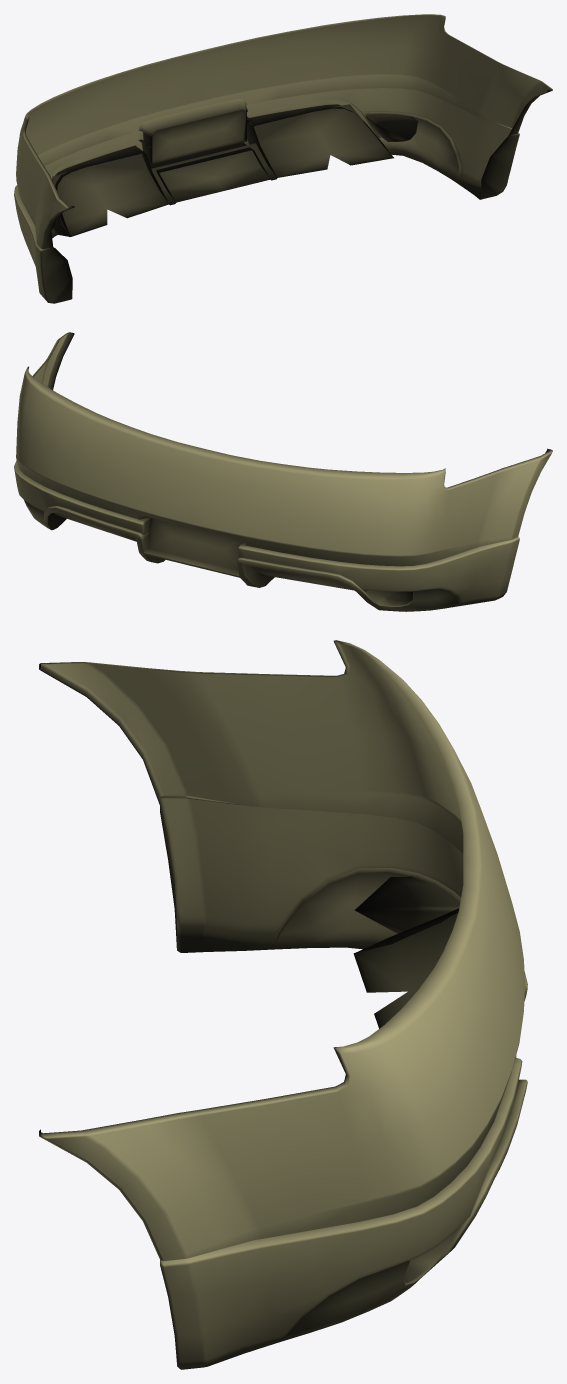
Rendered from G37_RB_04_Duco.fbx.
3 views of the same model, one above another, from view 1: azimuth 30°, elevation 25°; view 2: azimuth 150°, elevation 25°; view 3: azimuth 270°, elevation 25° (orthographic). The views are drawn at different scales.
Visible parts, largest first — view 1: G37_RB_04_Duco; view 2: G37_RB_04_Duco; view 3: G37_RB_04_Duco.
Part boxes in pixels (left/top/right/bottom): G37_RB_04_Duco: left=14, top=14, right=552, bottom=303; G37_RB_04_Duco: left=14, top=332, right=552, bottom=611; G37_RB_04_Duco: left=39, top=640, right=527, bottom=1369.
Bounding box in the file's own units: 183 × 55.45 × 79.62.
